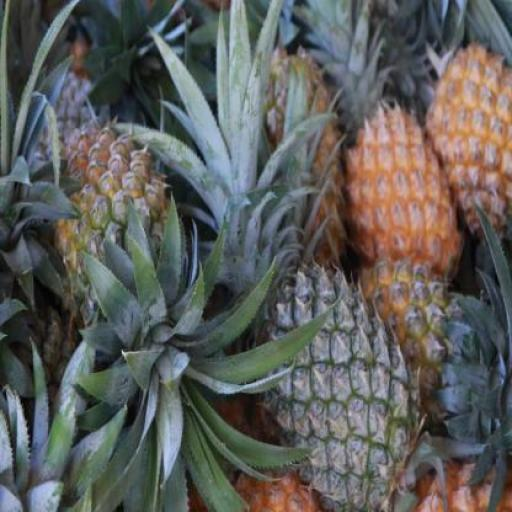------------------------------: (48, 124, 188, 334)
Pineapple - v8 v1: (344, 104, 458, 285), (427, 46, 511, 260)
